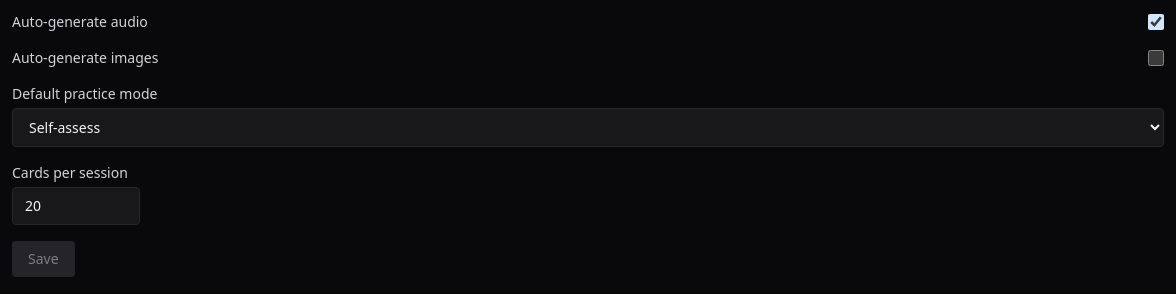
Test: SystemDefaultsSection › Save becomes enabled after changing a field
Expected: the button "Save" is disabled, left=12, top=241, right=75, bottom=277
Click the switch labelled "Auto-generate audio": x=1156, y=22 left=1148, top=14, right=1164, bottom=30
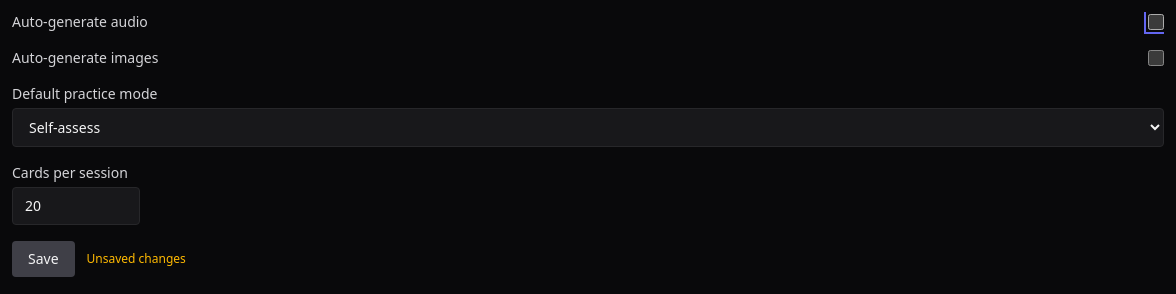
Expected: the button "Save" is enabled, left=12, top=241, right=75, bottom=277
